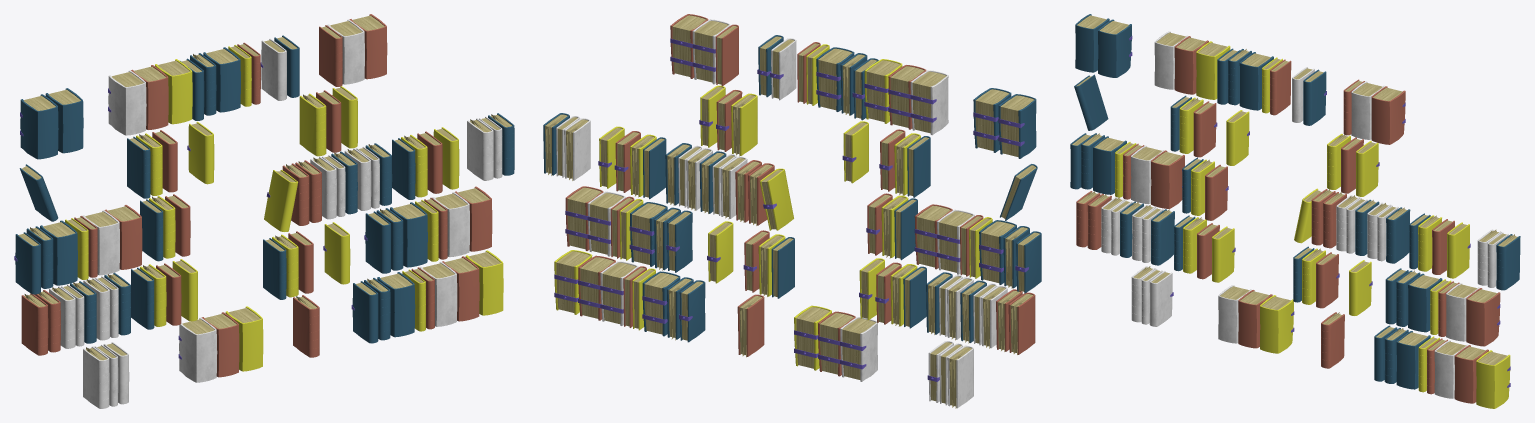
File: BookShelf_Small_Wide_01_Books_01.FBX
3 views of the same model, side by side, from view 1: azimuth 30°, elevation 25°; view 2: azimuth 150°, elevation 25°; view 3: azimuth 330°, elevation 25° (orthographic). The views are drawn at different scales.
Visible parts, largest first — view 1: BookShelf_Small_Wide_01_Books_01; view 2: BookShelf_Small_Wide_01_Books_01; view 3: BookShelf_Small_Wide_01_Books_01.
Part boxes in pixels (box(x1,y1,x2,y2)): BookShelf_Small_Wide_01_Books_01: box(14, 14, 514, 408); BookShelf_Small_Wide_01_Books_01: box(543, 14, 1041, 408); BookShelf_Small_Wide_01_Books_01: box(1070, 14, 1520, 408).
Bounding box in the file's own units: 3.83 × 2.4 × 0.2618.
6 materials, 2 textured.
